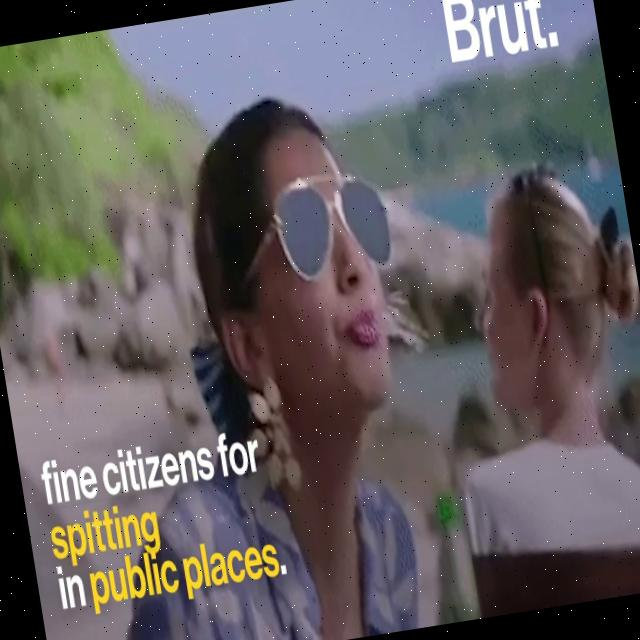spit: (326, 236, 441, 405)
